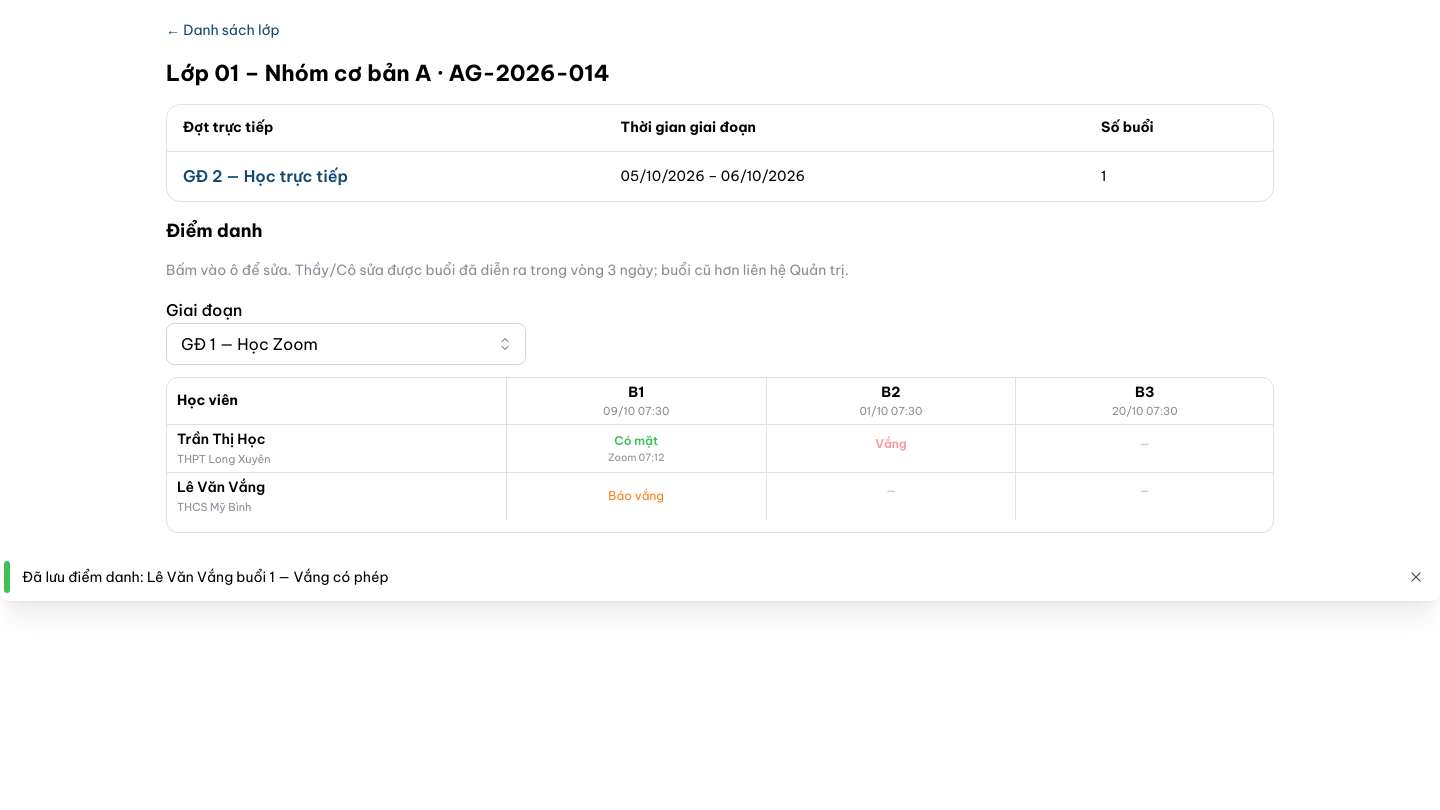
Hỗ trợ GV — bảng điểm danh lớp › đổi ô tự điểm danh Zoom sang "Vắng" → gửi đúng trạng thái
Click the button with aria-label "Sửa điểm danh Trần Thị Học buổi 1" at (636, 449), box [509, 428, 764, 470]
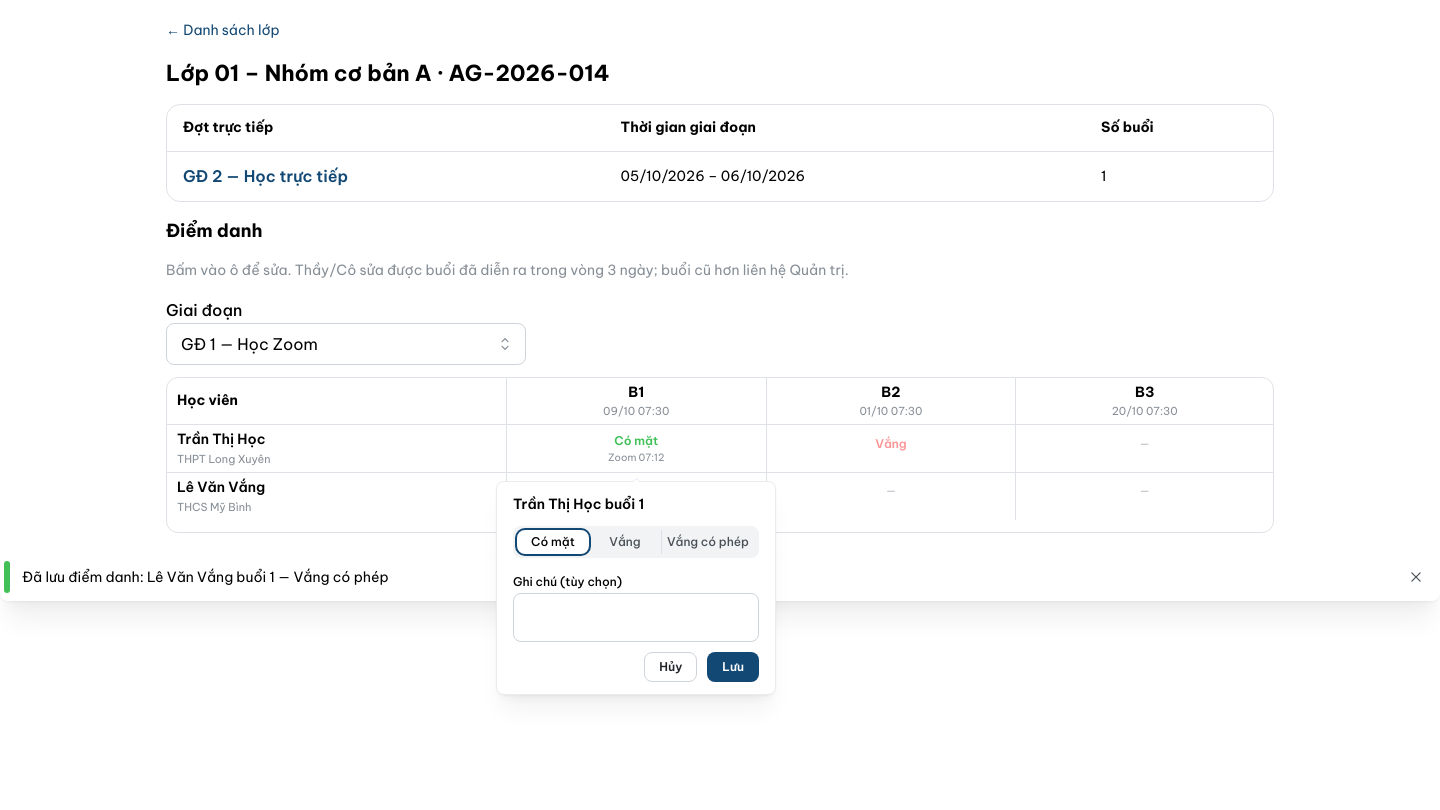
Expected: the radio button labelled "Có mặt" is checked, [531, 534, 575, 549]
Click the radio button labelled "Vắng" at (625, 541), box [610, 534, 641, 549]
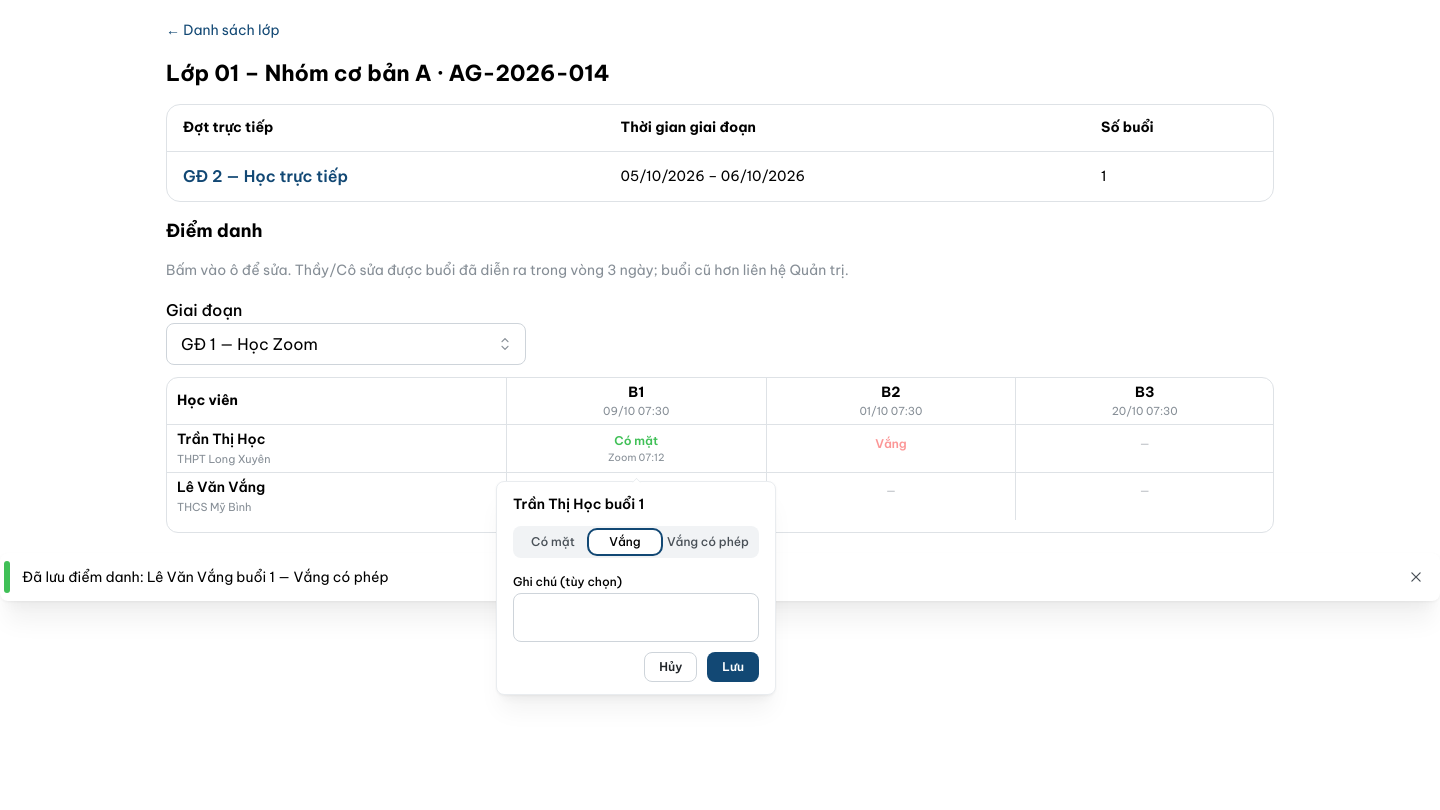
Click the button "Lưu" at (733, 667), box [708, 652, 759, 682]
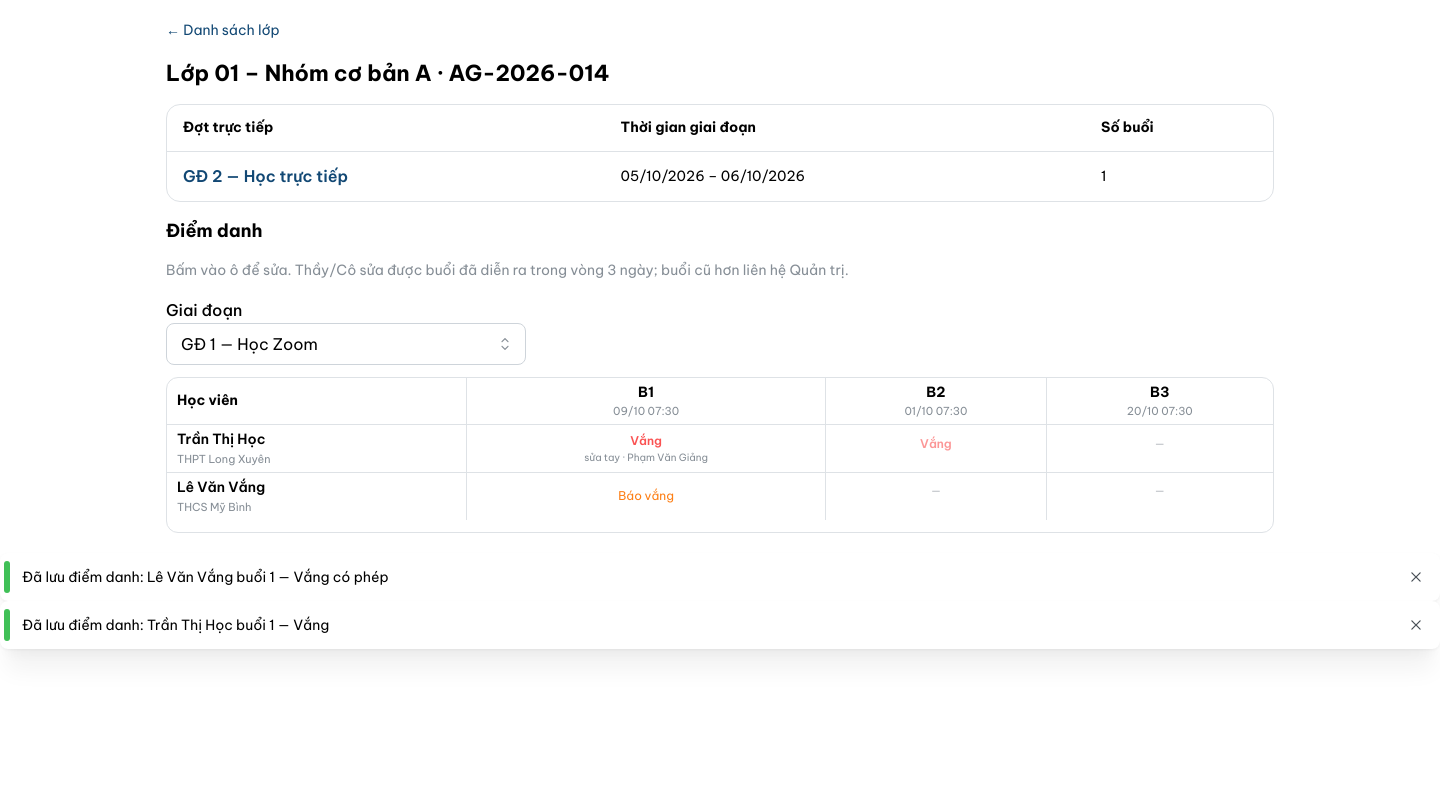
Expected: the text "Đã lưu điểm danh: Trần Thị Học buổi 1 — Vắng" is shown, [22, 616, 329, 634]
